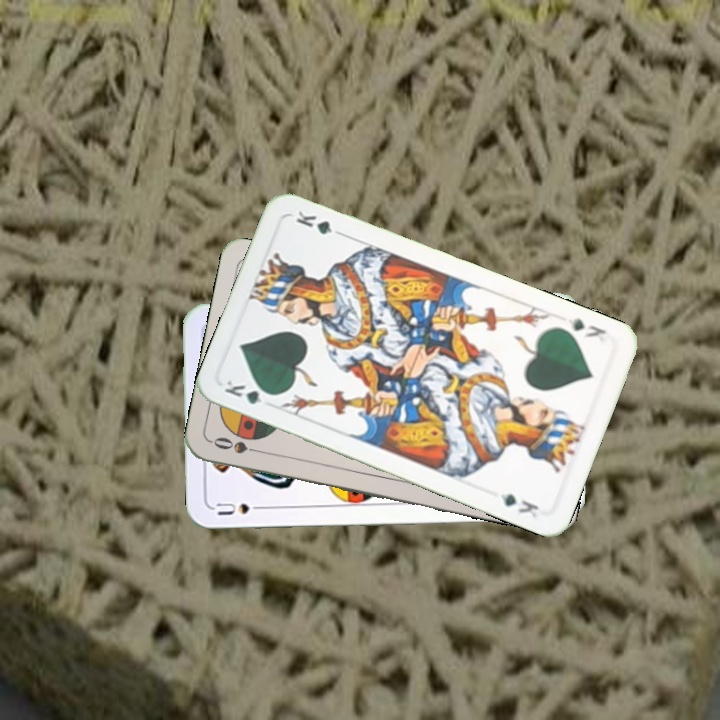GK: (220, 376, 278, 410), (564, 314, 609, 341)
SO: (208, 432, 267, 457)
SU: (212, 498, 270, 518)
